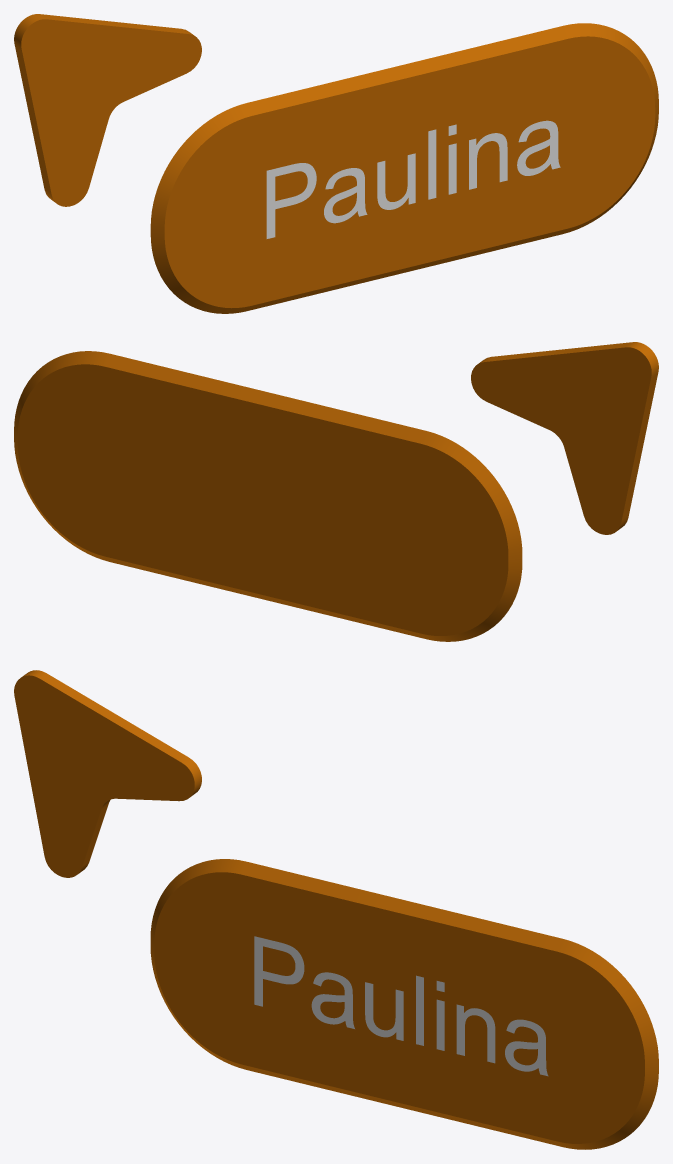
The model's file is orange-cursor-transformed.glb.
3 renders of one model, top to bottom at view 1: azimuth 30°, elevation 25°; view 2: azimuth 150°, elevation 25°; view 3: azimuth 330°, elevation 25°, orthographic.
Visible parts, largest first — view 1: button, orange-cursor, paulina; view 2: button, orange-cursor; view 3: button, orange-cursor, paulina.
Boxes of the visible parts, x1,y1,x2,y2 form: button: [150, 23, 658, 313]; orange-cursor: [14, 14, 201, 206]; paulina: [266, 120, 560, 238]; button: [14, 351, 522, 641]; orange-cursor: [471, 342, 658, 534]; button: [150, 859, 658, 1149]; orange-cursor: [14, 670, 201, 877]; paulina: [254, 936, 548, 1076].
Size of the model in its own units: 0.2563 by 0.1319 by 0.00773.
